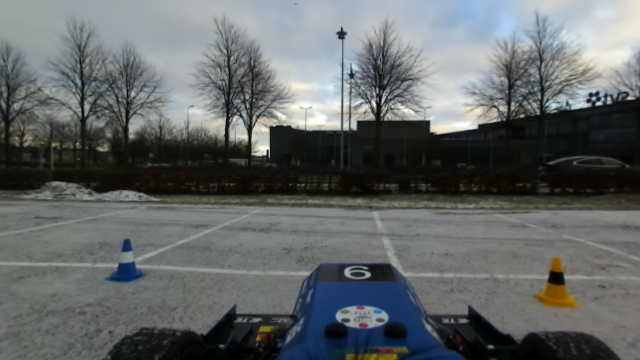blue: (105, 239, 150, 282)
yellow: (534, 254, 577, 307)
